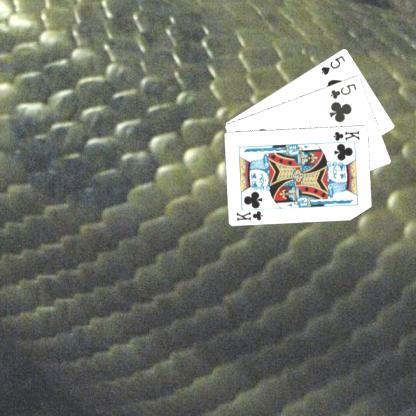5C: (328, 80, 358, 100)
5S: (318, 52, 347, 76)
KC: (234, 205, 267, 222), (328, 128, 361, 144)
